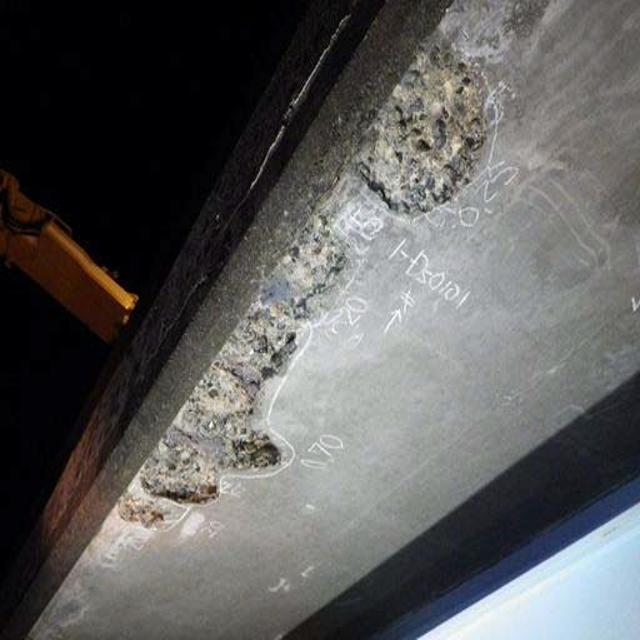spalling: (143, 56, 504, 548)
